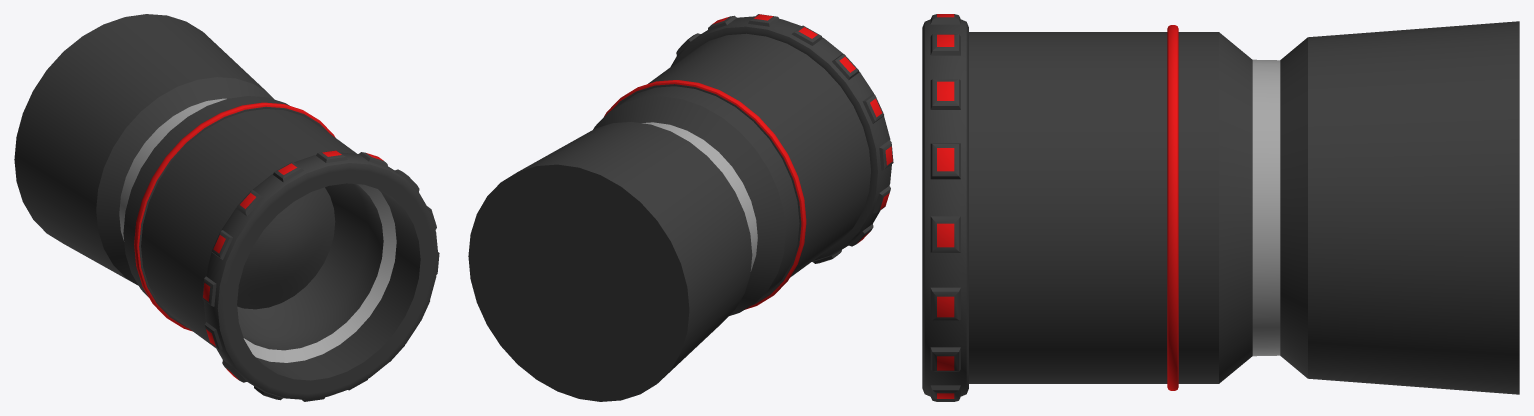
Rendered from Cam1.gltf.
The picture shows the model from 3 angles, left to right: view 1: azimuth 30°, elevation 25°; view 2: azimuth 150°, elevation 25°; view 3: azimuth 270°, elevation 25°; orthographic projection. The views are drawn at different scales.
Visible parts, largest first — view 1: Camara1; view 2: Camara1; view 3: Camara1.
Boxes of the visible parts, x1,y1,x2,y2 form: Camara1: (14,14,439,401); Camara1: (468,14,893,401); Camara1: (922,14,1519,401).
Bounding box in the file's own units: 0.2287 × 0.2287 × 0.3512.
